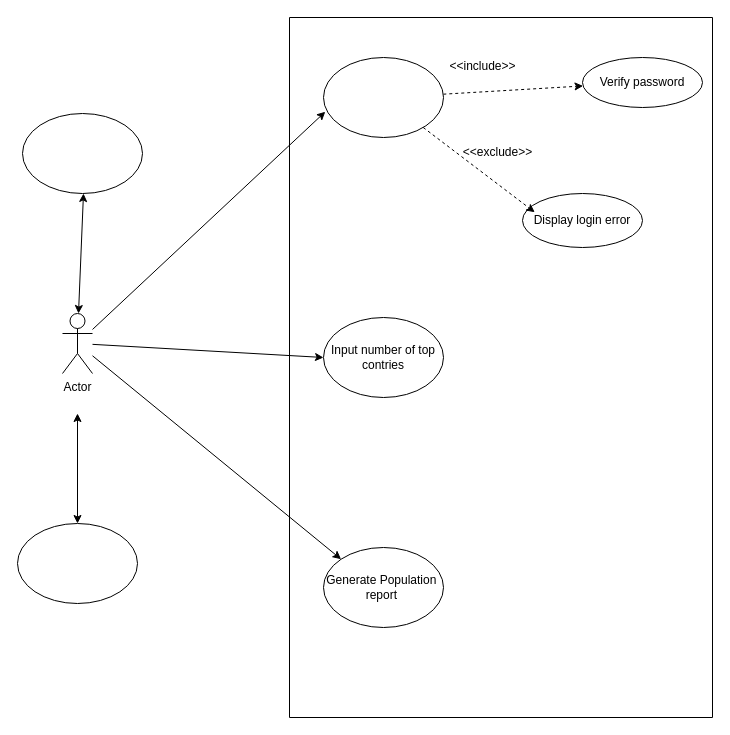
The diagram is 730 pixels wide and 735 high, and some of its shapes have lost their labels. The centre of each missing label's shape, as x and y in pixels:
"Administrator" belongs at point 77,563.
"Login" belongs at point 383,97.
"user" belongs at point 82,153.
